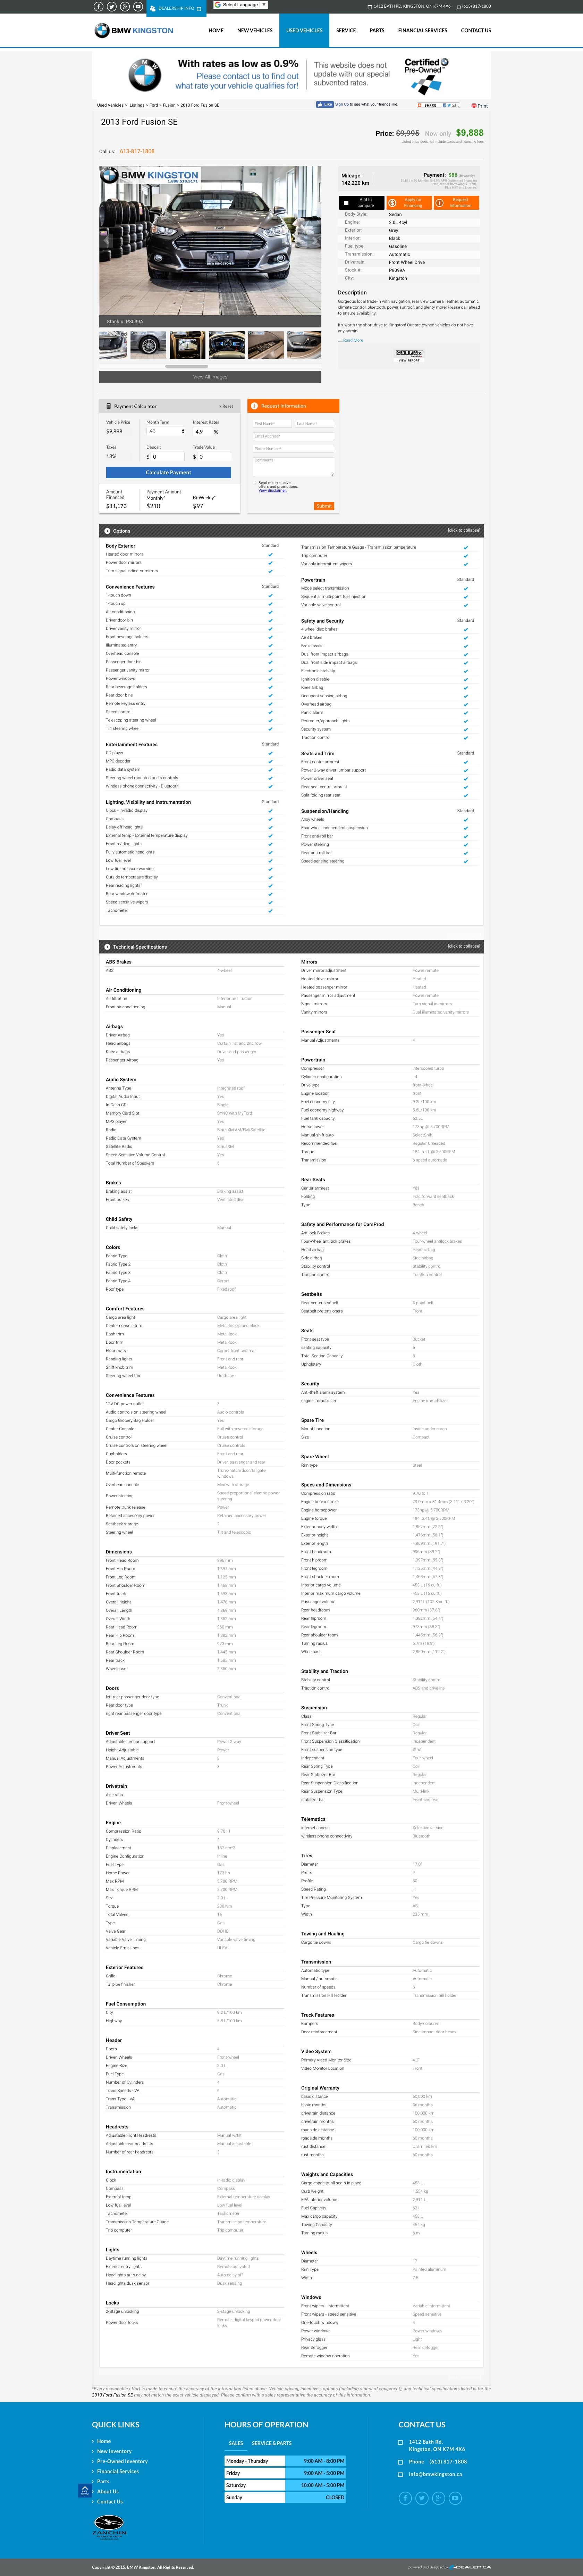car: (307, 233, 322, 248)
